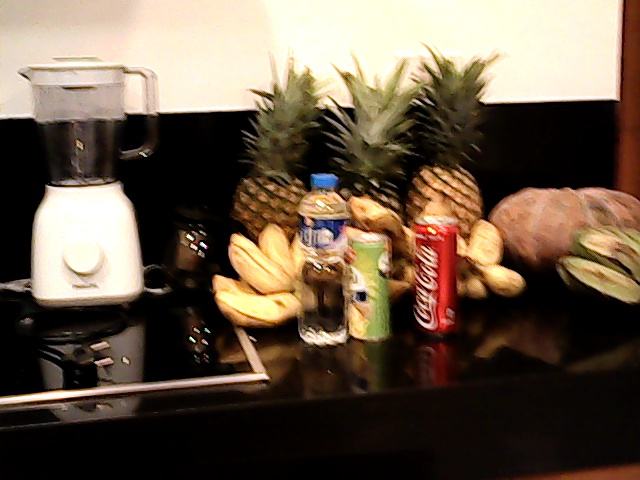Cola: (406, 199, 464, 345)
Pine Juice: (344, 220, 398, 354)
Summit Water: (288, 164, 347, 353)
